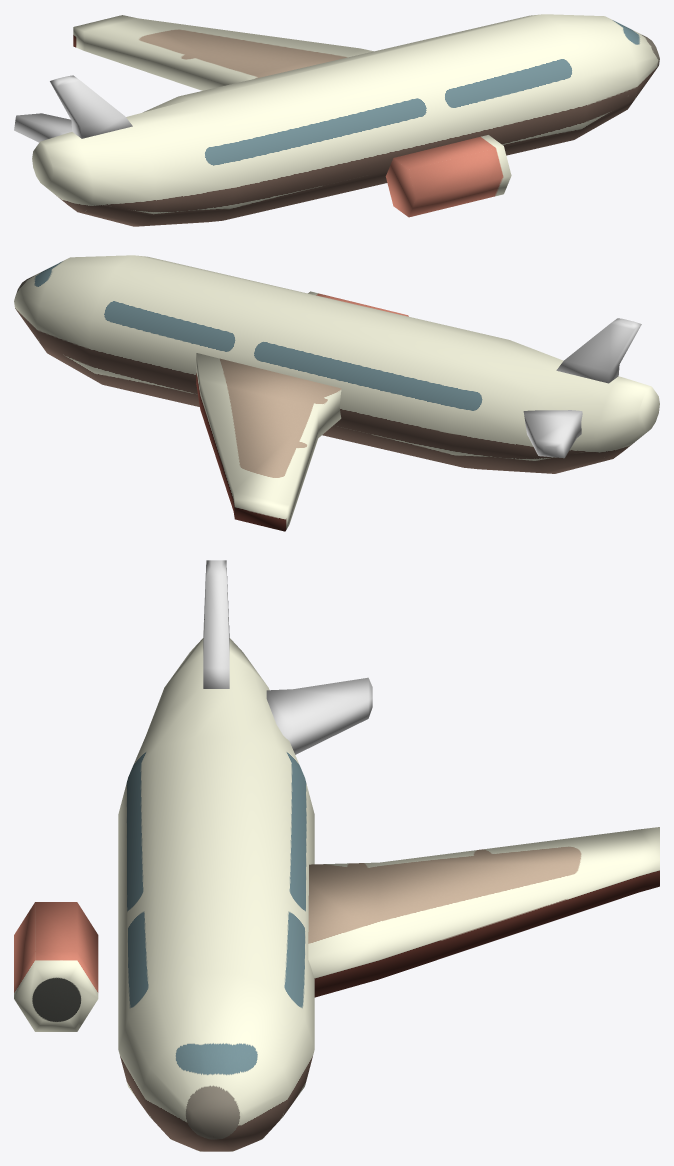
The picture shows the model from 3 angles, top to bottom: view 1: azimuth 30°, elevation 25°; view 2: azimuth 150°, elevation 25°; view 3: azimuth 270°, elevation 25°; orthographic projection. The views are drawn at different scales.
Visible parts, largest first — view 1: PlaneBody, MainWings, Engine, TopWing, RearWings; view 2: PlaneBody, MainWings, TopWing, RearWings; view 3: PlaneBody, MainWings, Engine, RearWings, TopWing.
Part boxes in pixels (<box>): PlaneBody: <box>32,14,659,226</box>; MainWings: <box>73,15,373,90</box>; Engine: <box>385,135,511,217</box>; TopWing: <box>50,75,132,138</box>; RearWings: <box>14,113,72,142</box>; PlaneBody: <box>14,255,659,473</box>; MainWings: <box>196,353,341,531</box>; TopWing: <box>556,318,641,383</box>; RearWings: <box>523,410,582,458</box>; PlaneBody: <box>118,638,314,1151</box>; MainWings: <box>308,827,659,997</box>; Engine: <box>14,902,98,1031</box>; RearWings: <box>266,677,372,754</box>; TopWing: <box>203,560,229,688</box>.
Bounding box in the file's own units: 10.97 × 3.04 × 7.36.
3 materials, 3 textured.
